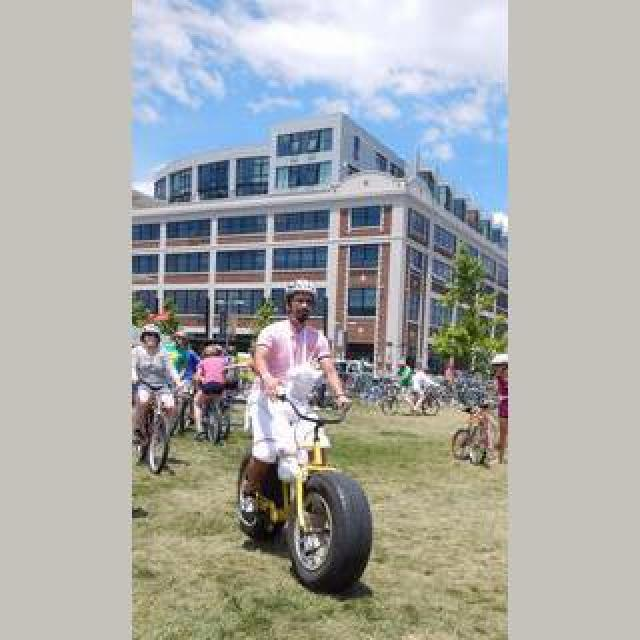Emergency Vehicles-Bike: (234, 384, 374, 596)
MC-Bike: (244, 286, 352, 530), (130, 326, 178, 456), (192, 342, 232, 438), (490, 358, 510, 460), (172, 334, 202, 386)
Person: (134, 380, 180, 476), (452, 400, 502, 466), (196, 390, 226, 446), (436, 378, 480, 406), (172, 380, 194, 436), (220, 384, 236, 434)
